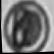correct: (2, 0, 54, 54)
